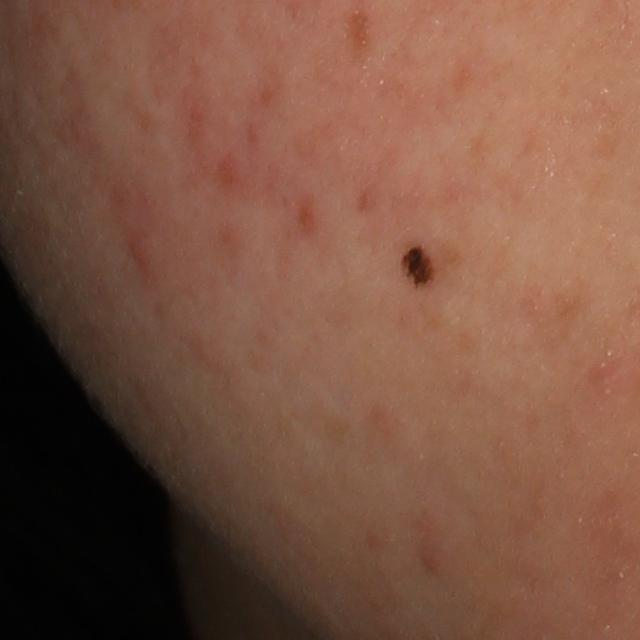nevus: (391, 243, 440, 294)
papule: (418, 544, 447, 577), (131, 236, 148, 265)
